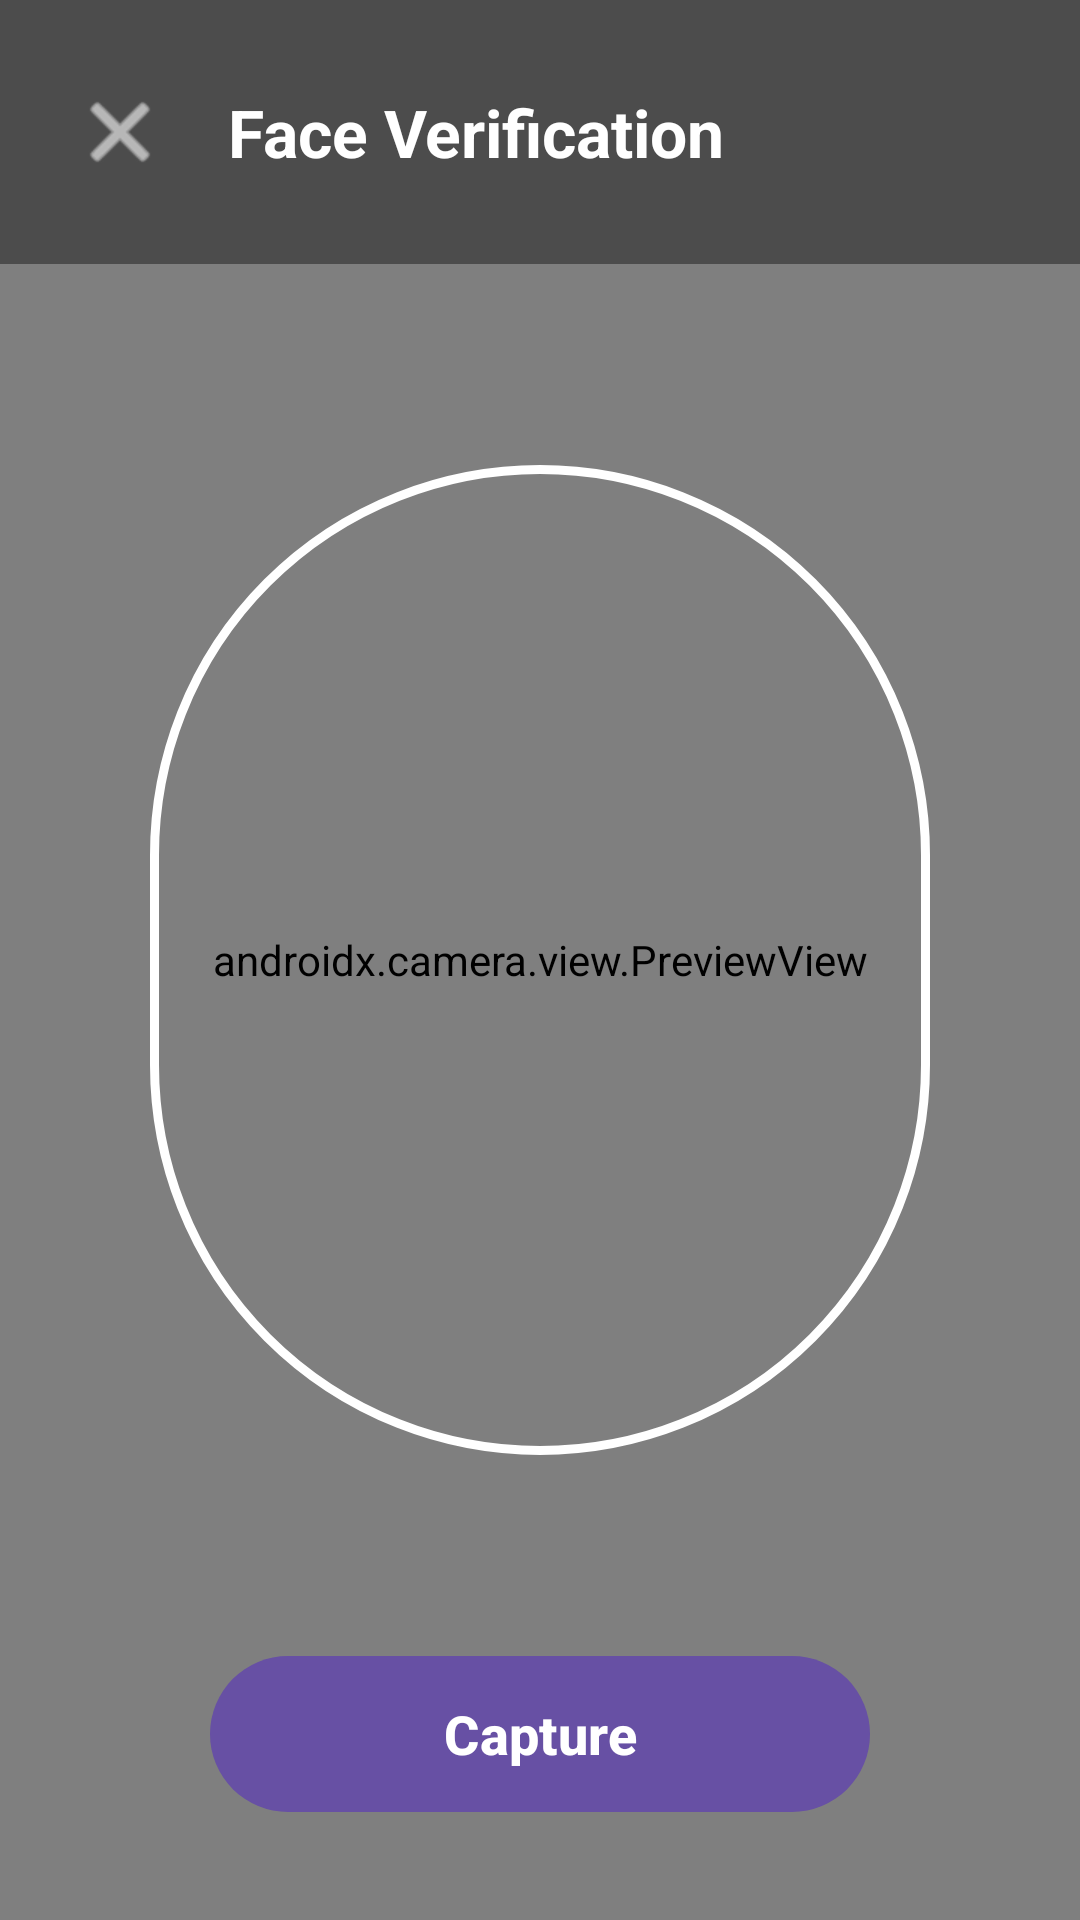

Icons on this 1080 × 1920 Android screen, each with its box as {"left": x1, "top": y1, "right": x2, "bottom": y2}:
Back: {"left": 90, "top": 102, "right": 150, "bottom": 162}
